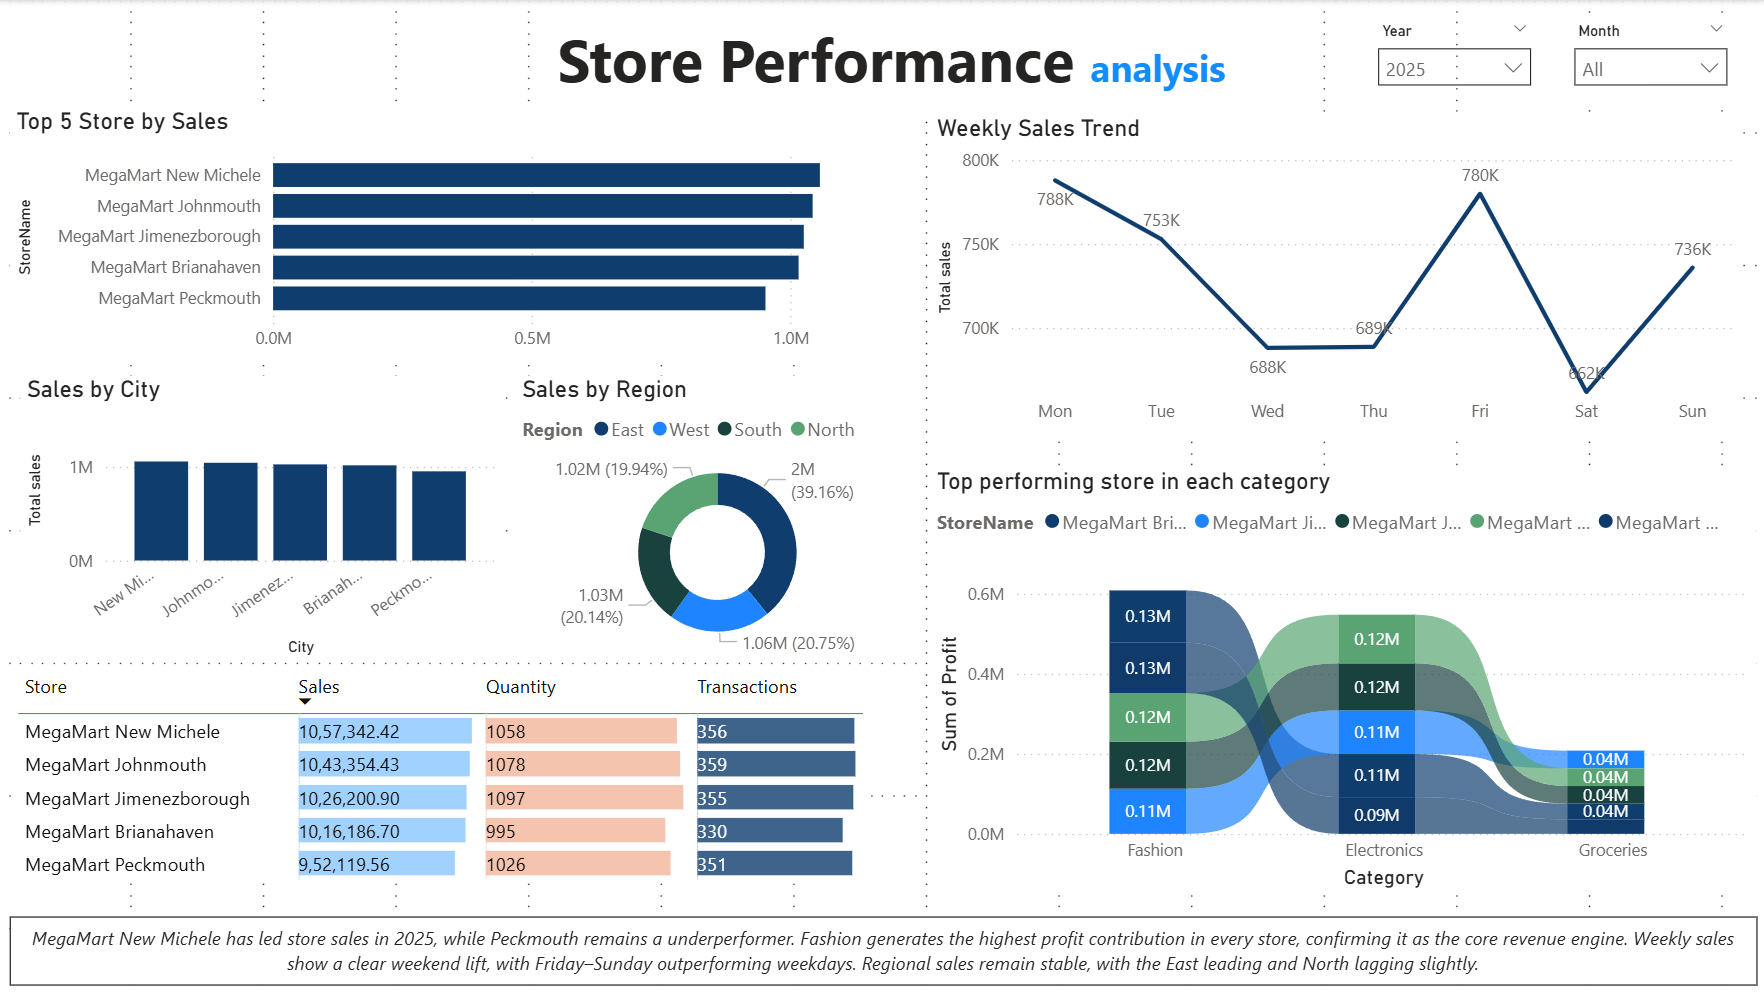

The page's visual inventory and layout, read from the dashboard file:
{"tool":"powerbi","page":{"name":"Store Performance","canvas":[1280,720],"ordinal":3},"visuals":[{"type":"textbox","box":[393.6,8,506.9,75.5],"z":0},{"type":"clusteredBarChart","title":"Top 5 Store by Sales","fields":{"Category":["Stores.StoreName"],"Y":["DAX Measure.Total sales (sumx)"]},"box":[8,78.2,658.6,186.4],"z":1000},{"type":"tableEx","fields":{"Values":["Transactions.StoreName","DAX Measure.Total sales (sumx)","Sum(Transactions.Quantity)","DAX Measure.Transaction count"]},"box":[8,479.2,631.5,168.4],"z":2000},{"type":"lineChart","title":"Weekly Sales Trend","fields":{"Category":["Calender.Day"],"Y":["DAX Measure.Total sales"]},"box":[674.6,83.2,587.4,234.6],"z":3000},{"type":"clusteredColumnChart","title":"Sales by City","fields":{"Category":["Transactions.City"],"Y":["DAX Measure.Total sales"]},"box":[16,271.7,348.8,207.5],"z":4000},{"type":"donutChart","title":"Sales by Region","fields":{"Category":["Stores.Region"],"Y":["DAX Measure.Total sales (sumx)"]},"box":[374.9,271.7,291.7,207.5],"z":5000},{"type":"ribbonChart","title":"Top performing store in each category","fields":{"Category":["Products.Category"],"Series":["Stores.StoreName"],"Y":["Sum(Transactions.Profit)"]},"box":[674.6,338.8,598.4,308.7],"z":6000},{"type":"slicer","fields":{"Values":["Calender.MonthName"]},"box":[1131.4,10.1,130.4,67.7],"z":7000},{"type":"slicer","fields":{"Values":["Calender.Year"]},"box":[988.9,10.1,130.4,67.7],"z":8000},{"type":"textbox","box":[8,663.6,1265,50.1],"z":9000}]}

Visuals, with their boxes in screenshot pixels (x1, y1, x2, y2), scaled from the page's 1280x720 canvas onto the 1764x992 screenshot:
textbox: pyautogui.locateOnScreen(542, 11, 1241, 115)
"Top 5 Store by Sales" clusteredBarChart: pyautogui.locateOnScreen(11, 108, 919, 365)
tableEx - Transactions.StoreName x DAX Measure.Total sales (sumx): pyautogui.locateOnScreen(11, 660, 881, 892)
"Weekly Sales Trend" lineChart: pyautogui.locateOnScreen(930, 115, 1739, 438)
"Sales by City" clusteredColumnChart: pyautogui.locateOnScreen(22, 374, 503, 660)
"Sales by Region" donutChart: pyautogui.locateOnScreen(517, 374, 919, 660)
"Top performing store in each category" ribbonChart: pyautogui.locateOnScreen(930, 467, 1754, 892)
slicer - Calender.MonthName: pyautogui.locateOnScreen(1559, 14, 1739, 107)
slicer - Calender.Year: pyautogui.locateOnScreen(1363, 14, 1543, 107)
textbox: pyautogui.locateOnScreen(11, 914, 1754, 983)
